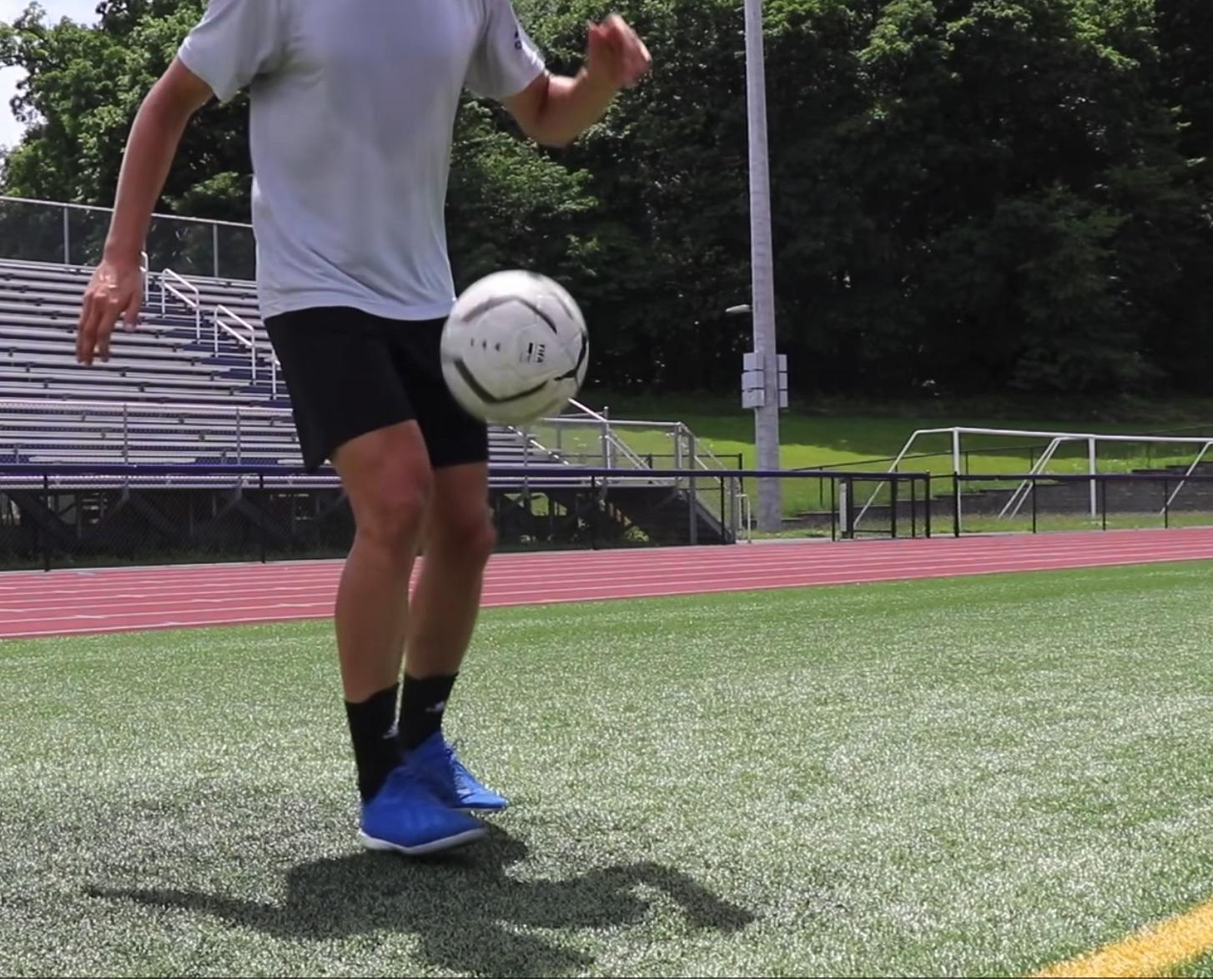ball: (440, 267, 589, 425)
foot: (362, 731, 509, 846), (411, 732, 512, 812)
person: (79, 0, 651, 852)
